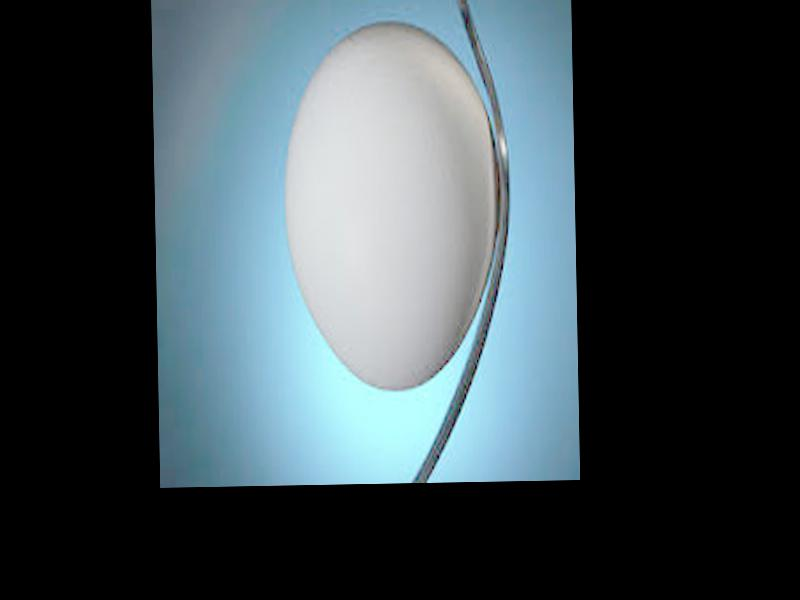Eggs: (284, 20, 500, 392)
